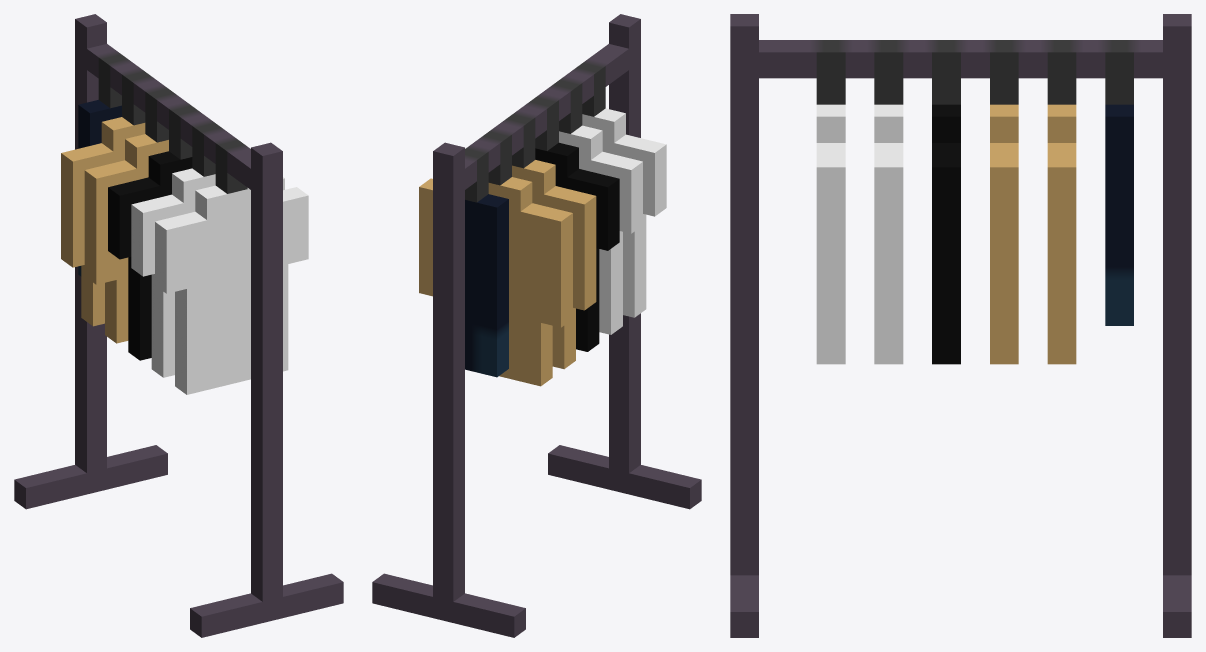
File: lobby_hanger.fbx
The picture shows the model from 3 angles, left to right: view 1: azimuth 30°, elevation 25°; view 2: azimuth 150°, elevation 25°; view 3: azimuth 270°, elevation 25°; orthographic projection. The views are drawn at different scales.
Parts seen in each view (by area): view 1: furniture; view 2: furniture; view 3: furniture.
Part boxes in pixels (bbox=[...]): furniture: bbox=[14, 14, 343, 637]; furniture: bbox=[372, 14, 701, 637]; furniture: bbox=[730, 14, 1191, 637].
Size of the model in its own units: 700 by 2200 by 1600.
